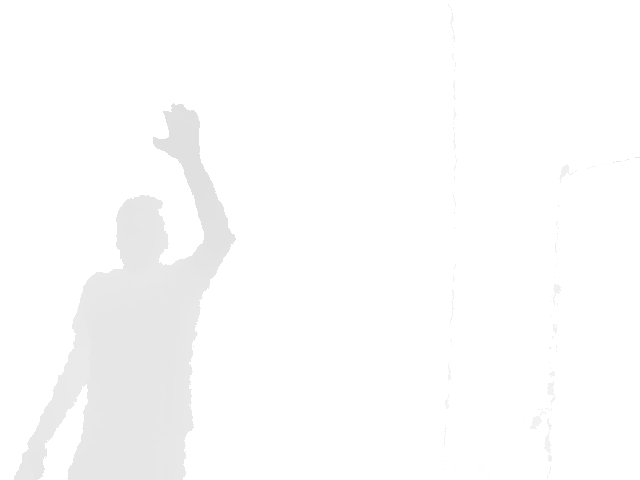hand: (151, 102, 203, 158)
head: (115, 195, 169, 269)
person: (12, 102, 236, 479)
